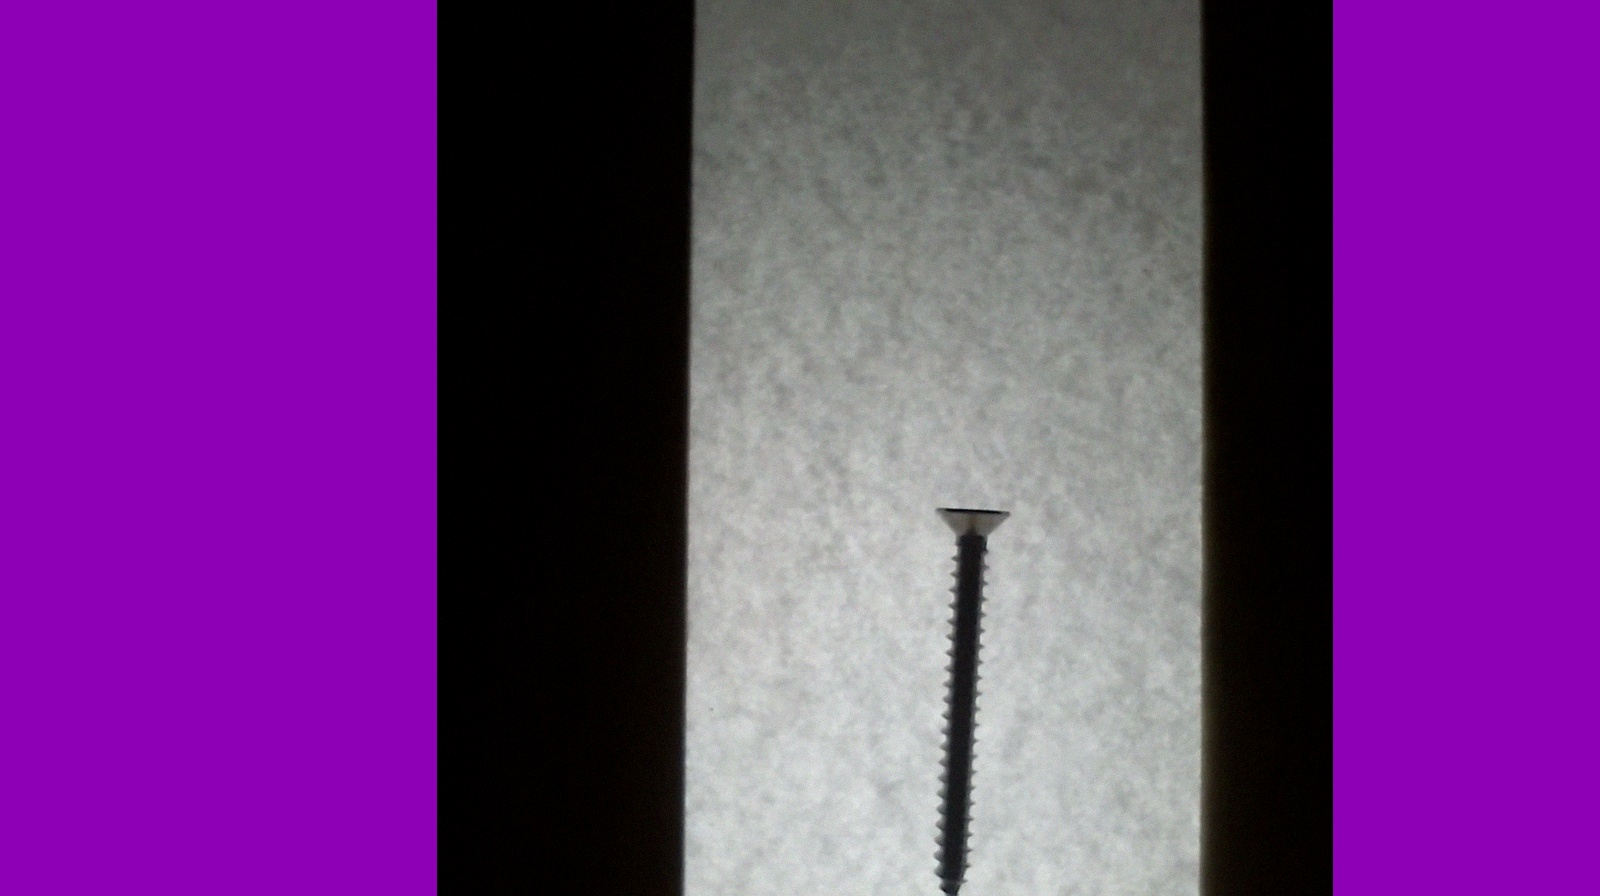S002: (919, 493, 1016, 895)
